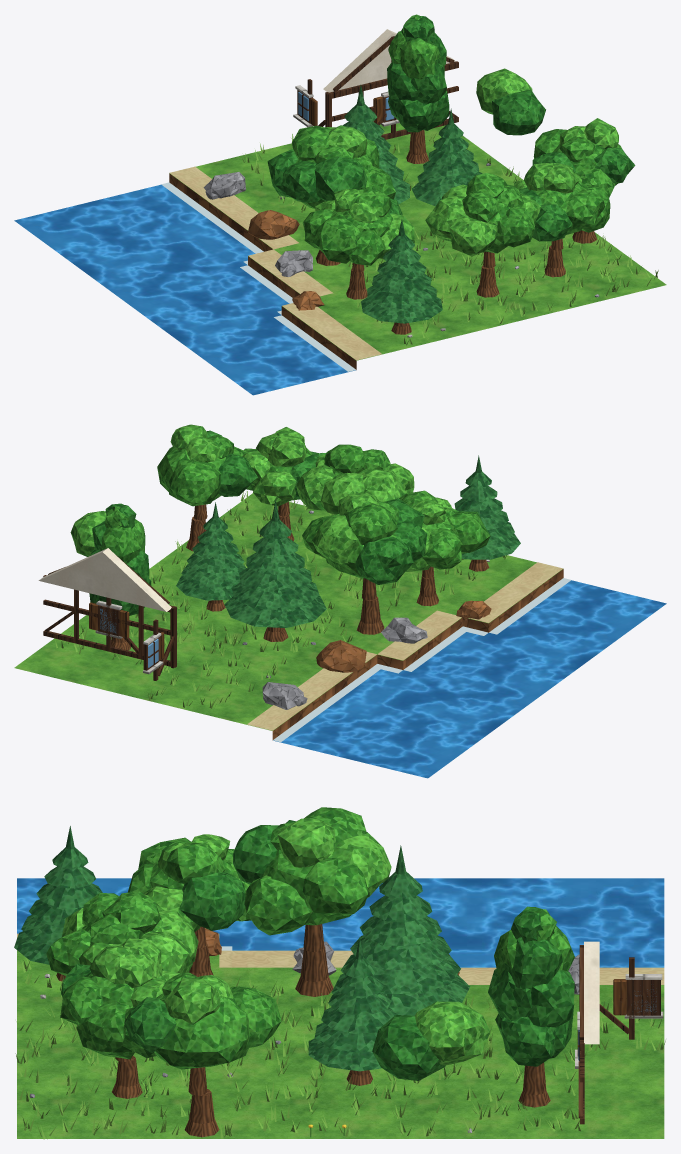
The model's file is chunk_0_3.glb.
The picture shows the model from 3 angles, top to bottom: view 1: azimuth 30°, elevation 25°; view 2: azimuth 150°, elevation 25°; view 3: azimuth 270°, elevation 25°; orthographic projection. The views are drawn at different scales.
Parts seen in each view (by area): view 1: chunk_0_3; view 2: chunk_0_3; view 3: chunk_0_3.
Boxes of the visible parts, x1,y1,x2,y2 form: chunk_0_3: (14,14,666,395); chunk_0_3: (14,424,666,778); chunk_0_3: (14,807,665,1139).
Size of the model in its own units: 16.88 by 5.73 by 16.15.
21 materials, 17 textured.
